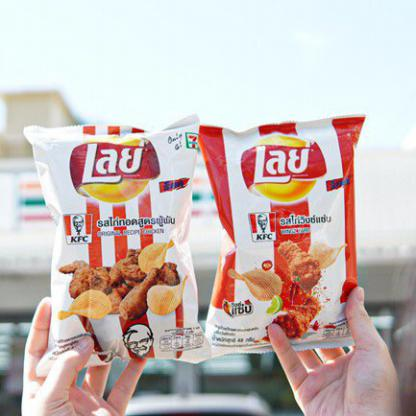potatochip: (23, 115, 214, 367), (196, 112, 364, 358)
